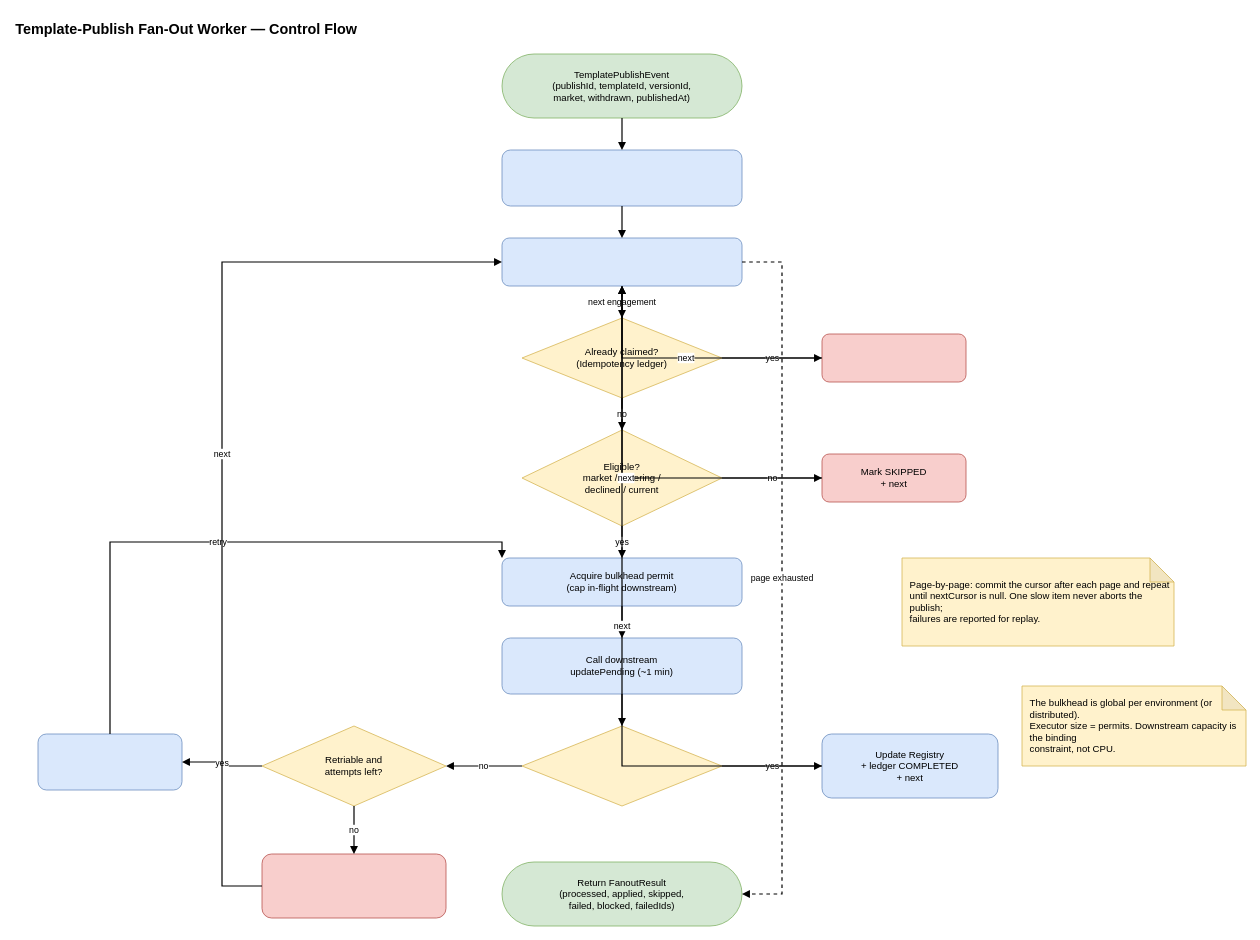
This 1260x940 diagram has some shape labels left out. The shapes that lost their labels are listed below. From the top down, each one's centre as x and y in pixels, then its label:
point 621,177: Fetch page from Registry (templateId, market, cursor, pageSize)
point 621,261: For each engagement (concurrent, bounded)
point 893,357: Skip (already processed)
point 109,761: Backoff (exponential)
point 621,765: Success?
point 353,885: Mark FAILED + failed list / DLQ
